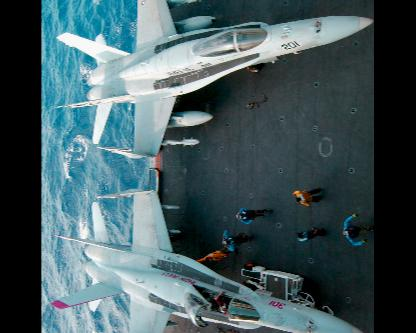F15: (54, 0, 374, 158), (48, 186, 367, 331)
